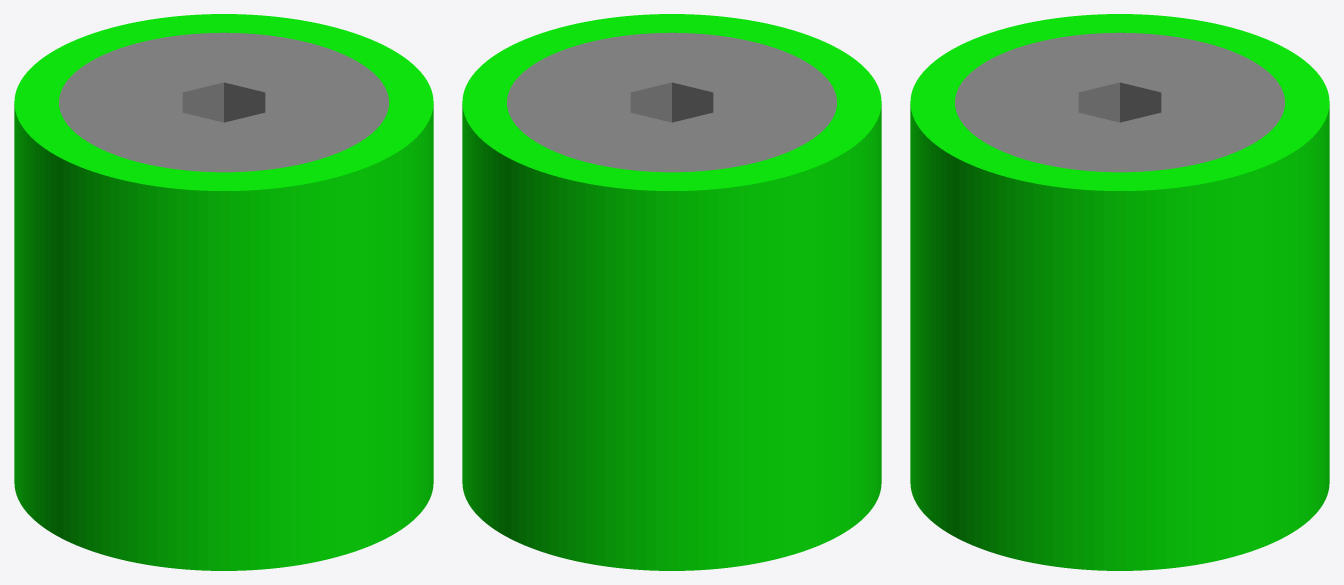
File: model_web.glb
The picture shows the model from 3 angles, left to right: view 1: azimuth 30°, elevation 25°; view 2: azimuth 150°, elevation 25°; view 3: azimuth 270°, elevation 25°; orthographic projection.
Parts seen in each view (by area): view 1: Node2, Node1; view 2: Node2, Node1; view 3: Node2, Node1.
Boxes of the visible parts, x1,y1,x2,y2 form: Node2: (14, 14, 433, 570); Node1: (59, 32, 388, 172); Node2: (462, 14, 881, 570); Node1: (507, 32, 836, 172); Node2: (910, 14, 1329, 570); Node1: (955, 32, 1284, 172).
Size of the model in its own units: 25.39 by 25.4 by 25.4.
